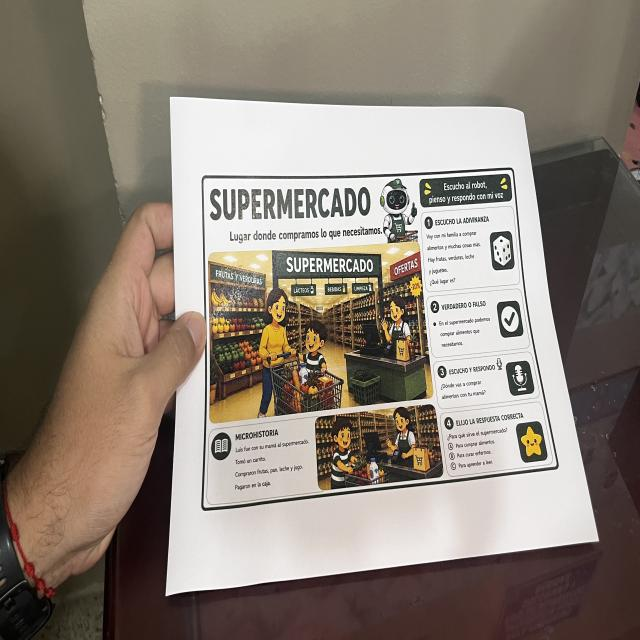supermercado: (197, 161, 564, 518)
